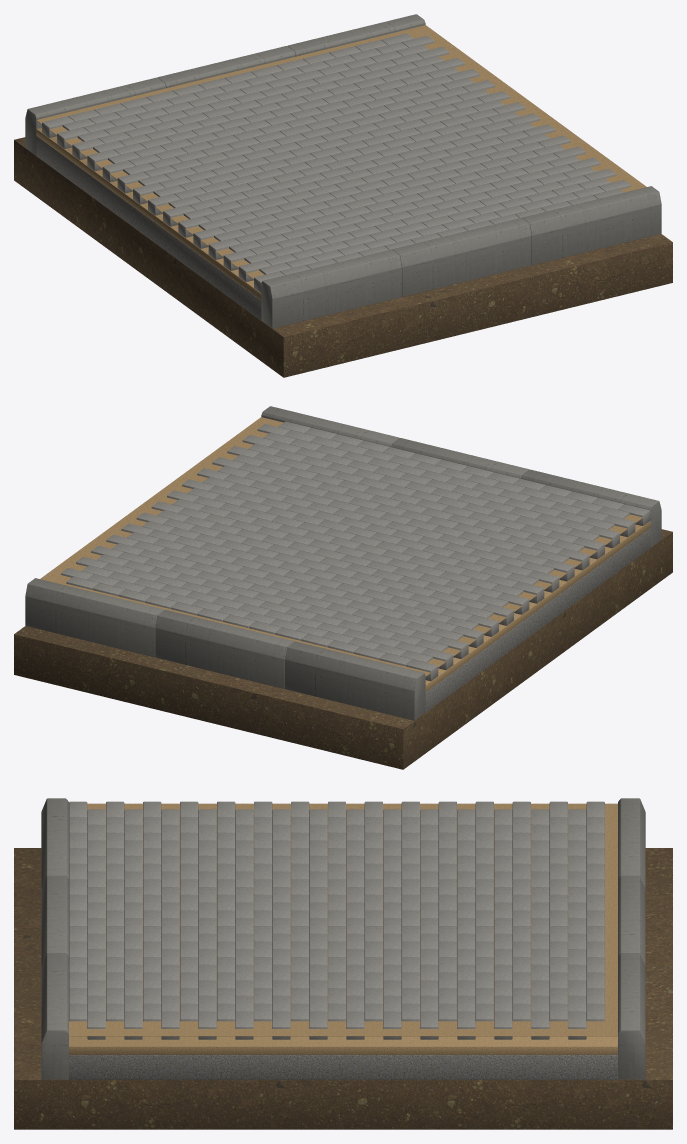
File: KIT-PAV-02.glb
The picture shows the model from 3 angles, top to bottom: view 1: azimuth 30°, elevation 25°; view 2: azimuth 150°, elevation 25°; view 3: azimuth 270°, elevation 25°; orthographic projection. The views are drawn at different scales.
Visible parts, largest first — view 1: KIT-PAV-02_subleito, KIT-PAV-02_mfB0, KIT-PAV-02_mfB2, KIT-PAV-02_mfB1, KIT-PAV-02_rejunte, KIT-PAV-02_subbase, KIT-PAV-02_mfA0, KIT-PAV-02_areia, KIT-PAV-02_mfA2, KIT-PAV-02_mfA1; view 2: KIT-PAV-02_subleito, KIT-PAV-02_mfA0, KIT-PAV-02_mfA2, KIT-PAV-02_mfA1, KIT-PAV-02_rejunte, KIT-PAV-02_subbase, KIT-PAV-02_areia, KIT-PAV-02_mfB0, KIT-PAV-02_mfB2, KIT-PAV-02_mfB1; view 3: KIT-PAV-02_subleito, KIT-PAV-02_rejunte, KIT-PAV-02_subbase, KIT-PAV-02_areia, KIT-PAV-02_mfA2, KIT-PAV-02_mfB2, KIT-PAV-02_mfA1, KIT-PAV-02_mfB1, KIT-PAV-02_mfA0, KIT-PAV-02_mfB0.
Part boxes in pixels (box(x1,y1,x2,y2)): KIT-PAV-02_subleito: box(14, 137, 672, 377); KIT-PAV-02_mfB0: box(261, 249, 401, 328); KIT-PAV-02_mfB2: box(522, 186, 661, 265); KIT-PAV-02_mfB1: box(392, 218, 531, 296); KIT-PAV-02_rejunte: box(36, 25, 646, 284); KIT-PAV-02_subbase: box(36, 136, 261, 320); KIT-PAV-02_mfA0: box(25, 77, 165, 155); KIT-PAV-02_areia: box(36, 128, 261, 299); KIT-PAV-02_mfA2: box(287, 14, 425, 56); KIT-PAV-02_mfA1: box(157, 46, 295, 88); KIT-PAV-02_subleito: box(14, 529, 672, 769); KIT-PAV-02_mfA0: box(285, 641, 425, 720); KIT-PAV-02_mfA2: box(25, 578, 164, 657); KIT-PAV-02_mfA1: box(155, 610, 294, 688); KIT-PAV-02_rejunte: box(40, 417, 643, 676); KIT-PAV-02_subbase: box(425, 528, 650, 712); KIT-PAV-02_areia: box(425, 521, 650, 691); KIT-PAV-02_mfB0: box(521, 469, 661, 547); KIT-PAV-02_mfB2: box(261, 406, 399, 446); KIT-PAV-02_mfB1: box(391, 438, 529, 478); KIT-PAV-02_subleito: box(14, 848, 672, 1129); KIT-PAV-02_rejunte: box(69, 803, 617, 1036); KIT-PAV-02_subbase: box(69, 1055, 617, 1079); KIT-PAV-02_areia: box(69, 1036, 617, 1054); KIT-PAV-02_mfA2: box(618, 953, 645, 1079); KIT-PAV-02_mfB2: box(41, 953, 68, 1079); KIT-PAV-02_mfA1: box(618, 875, 645, 966); KIT-PAV-02_mfB1: box(41, 875, 68, 966); KIT-PAV-02_mfA0: box(618, 798, 645, 888); KIT-PAV-02_mfB0: box(41, 798, 68, 888).
Size of the model in its own units: 3 by 0.6 by 3.6.
5 materials, 5 textured.
